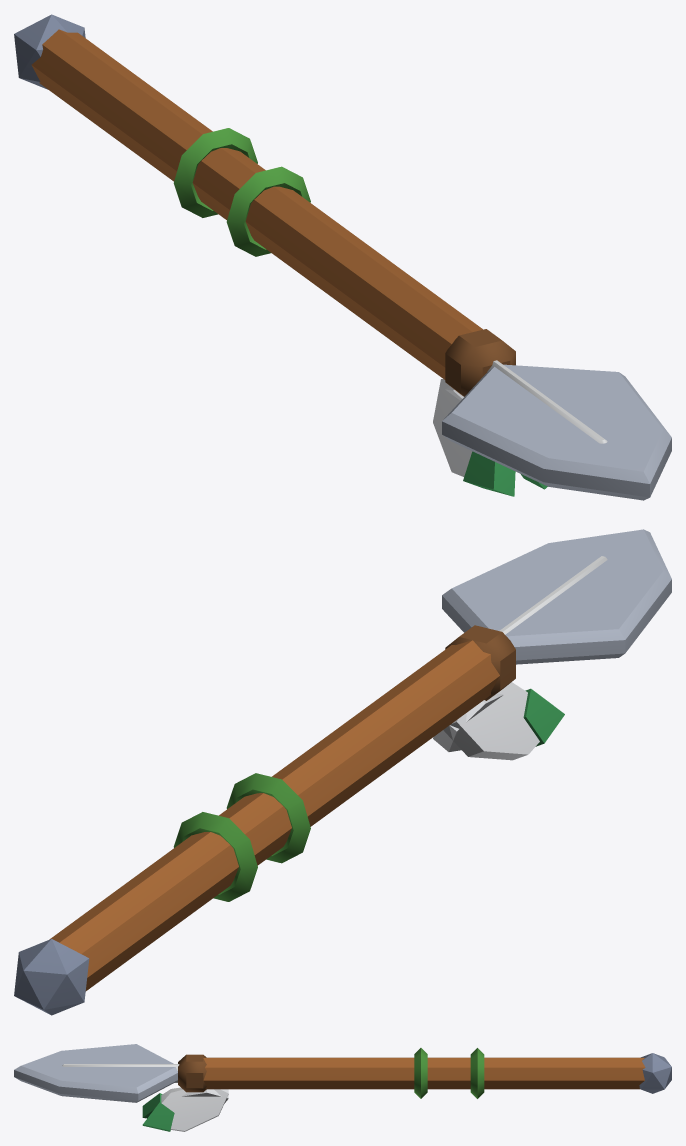
Rendered from w_y_spear.glb.
The picture shows the model from 3 angles, top to bottom: view 1: azimuth 30°, elevation 25°; view 2: azimuth 150°, elevation 25°; view 3: azimuth 270°, elevation 25°; orthographic projection. The views are drawn at different scales.
Parts seen in each view (by area): view 1: body; view 2: body; view 3: body.
Part boxes in pixels (bbox=[...]): body: bbox=[14, 14, 671, 500]; body: bbox=[14, 529, 671, 1015]; body: bbox=[14, 1044, 671, 1131].
Size of the model in its own units: 0.26 by 0.1921 by 1.51.
